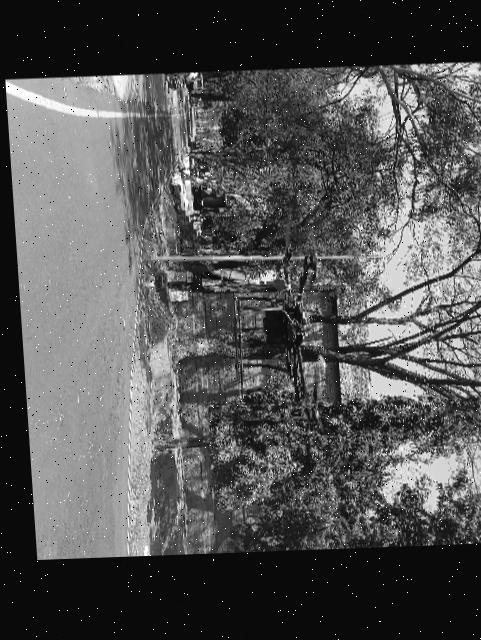drone: (208, 218, 335, 446)
